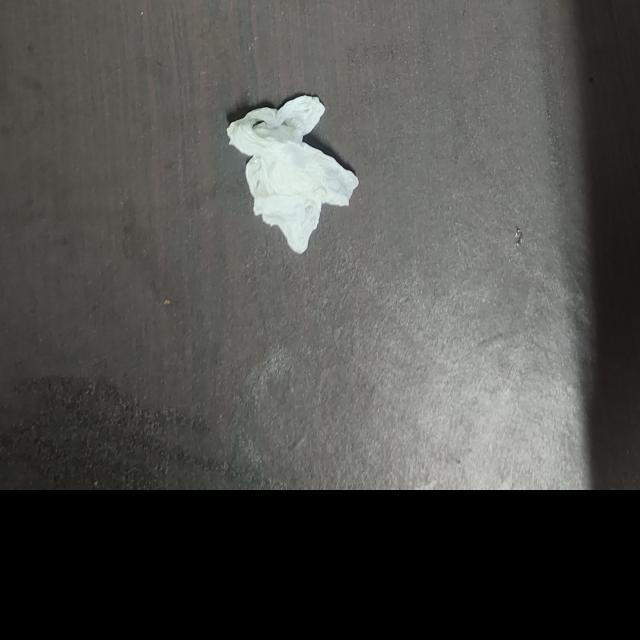kitchen paper: (224, 90, 362, 259)
